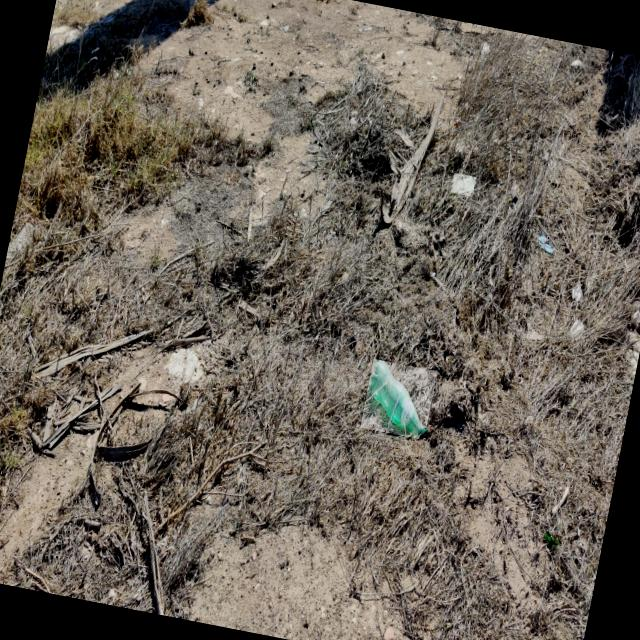Bottle cap: (419, 428, 425, 440)
Clear plastic bottle: (368, 361, 425, 440)
Other plastic bottle: (544, 534, 560, 546)
Plastic film: (630, 302, 640, 331)
Unlabeled litter: (451, 176, 473, 194), (538, 235, 555, 254)
